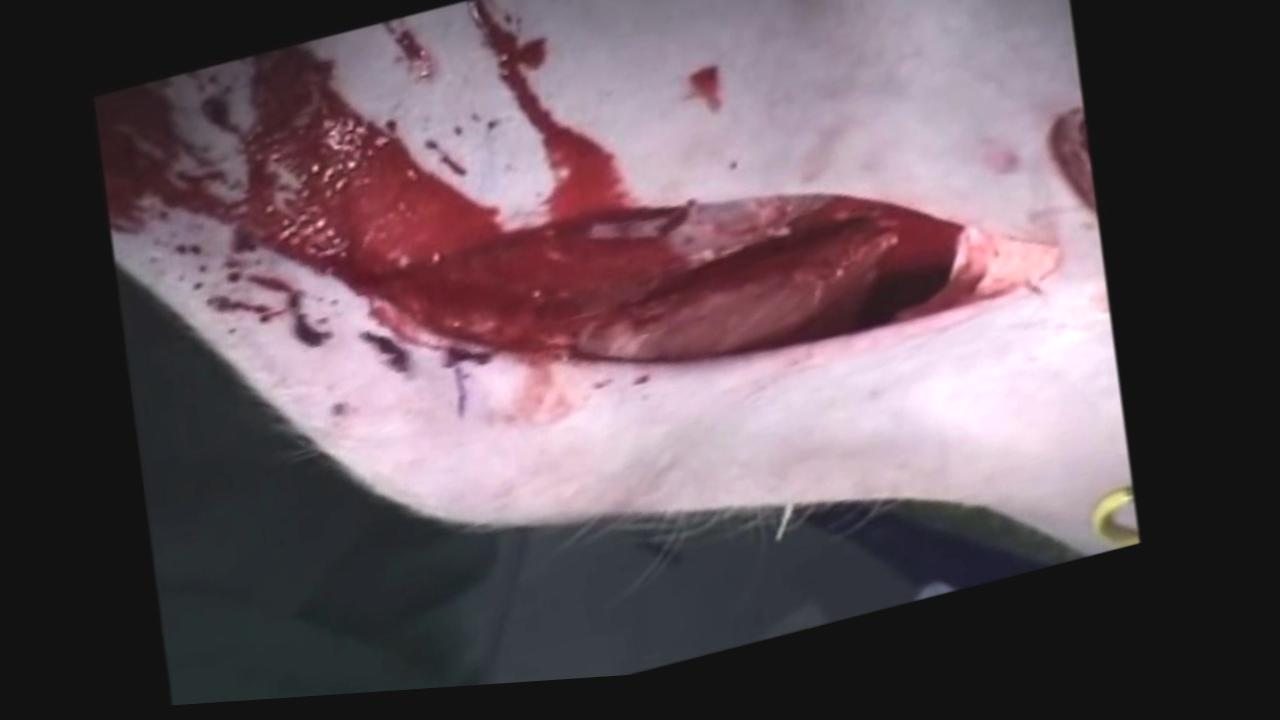Fire: (97, 5, 971, 389), (691, 77, 724, 123)
